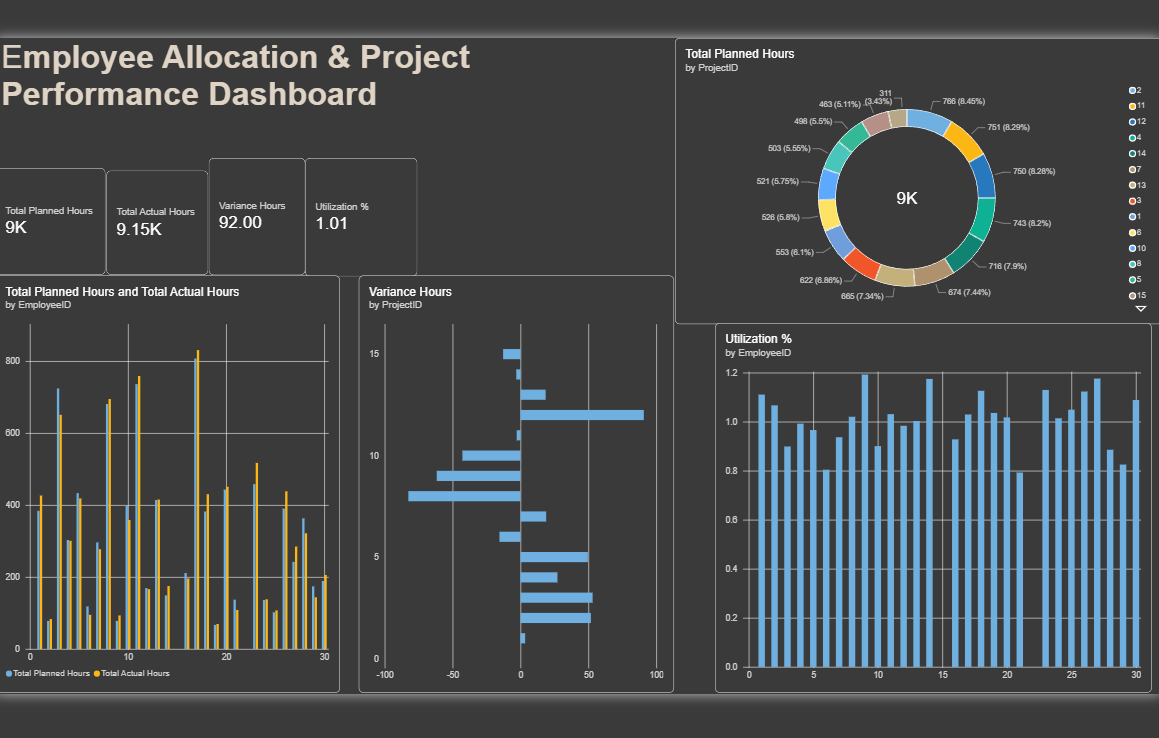

The dashboard page shown, as its layout file describes it:
{"tool":"powerbi","page":{"name":"Page 1","canvas":[1920,1080],"ordinal":0},"visuals":[{"type":"cardVisual","fields":{"Data":["Allocation.Total Planned Hours"]},"box":[0,214.9,183,176.6],"z":0},{"type":"cardVisual","fields":{"Data":["Allocation.Total Actual Hours"]},"box":[183,219.1,168.1,172.3],"z":1000},{"type":"cardVisual","fields":{"Data":["Allocation.Variance Hours"]},"box":[351.1,197.9,159.6,193.6],"z":2000},{"type":"cardVisual","fields":{"Data":["Allocation.Utilization %"]},"box":[510.6,197.9,185.1,195.7],"z":3000},{"type":"clusteredColumnChart","fields":{"Category":["Allocation.EmployeeID"],"Y":["Allocation.Total Planned Hours","Allocation.Total Actual Hours"]},"box":[0,391.5,568.1,687.2],"z":4000},{"type":"donutChart","fields":{"Category":["Allocation.ProjectID"],"Y":["Allocation.Total Planned Hours"]},"box":[1118.8,0,802.1,470.8],"z":5000},{"type":"barChart","fields":{"Category":["Allocation.ProjectID"],"Y":["Allocation.Variance Hours"]},"box":[600,391.5,519.1,687.2],"z":6000},{"type":"clusteredColumnChart","fields":{"Category":["Allocation.EmployeeID"],"Y":["Allocation.Utilization %"]},"box":[1185.1,470.2,719.1,608.5],"z":7000},{"type":"textbox","box":[10.6,0,823.4,153.2],"z":7001}]}

Visuals, with their boxes on the page's 1920x1080 design canvas (x1, y1, x2, y2). These are canvas units, not pixel positions in the 1159x738 screenshot, which may show the page scaled, cropped or inside an application window:
cardVisual - Allocation.Total Planned Hours: box(0, 215, 183, 392)
cardVisual - Allocation.Total Actual Hours: box(183, 219, 351, 391)
cardVisual - Allocation.Variance Hours: box(351, 198, 511, 392)
cardVisual - Allocation.Utilization %: box(511, 198, 696, 394)
clusteredColumnChart - Allocation.EmployeeID x Allocation.Total Planned Hours: box(0, 392, 568, 1079)
donutChart - Allocation.ProjectID x Allocation.Total Planned Hours: box(1119, 0, 1921, 471)
barChart - Allocation.ProjectID x Allocation.Variance Hours: box(600, 392, 1119, 1079)
clusteredColumnChart - Allocation.EmployeeID x Allocation.Utilization %: box(1185, 470, 1904, 1079)
textbox: box(11, 0, 834, 153)
